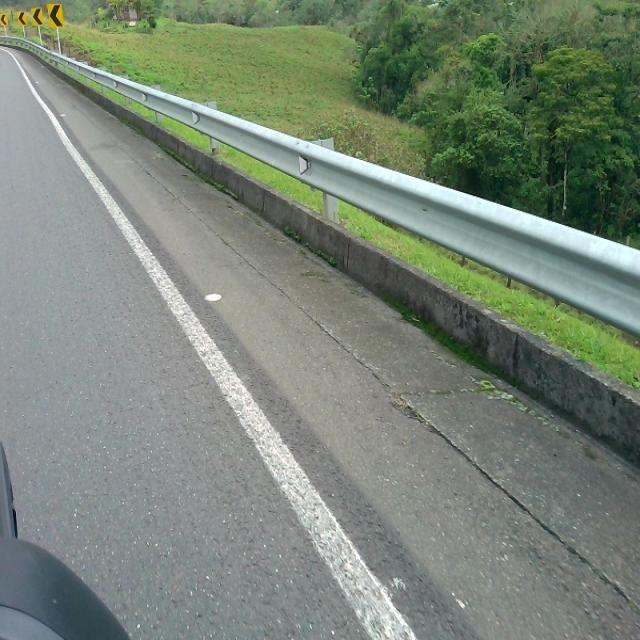DITCH: (1, 39, 638, 638)
